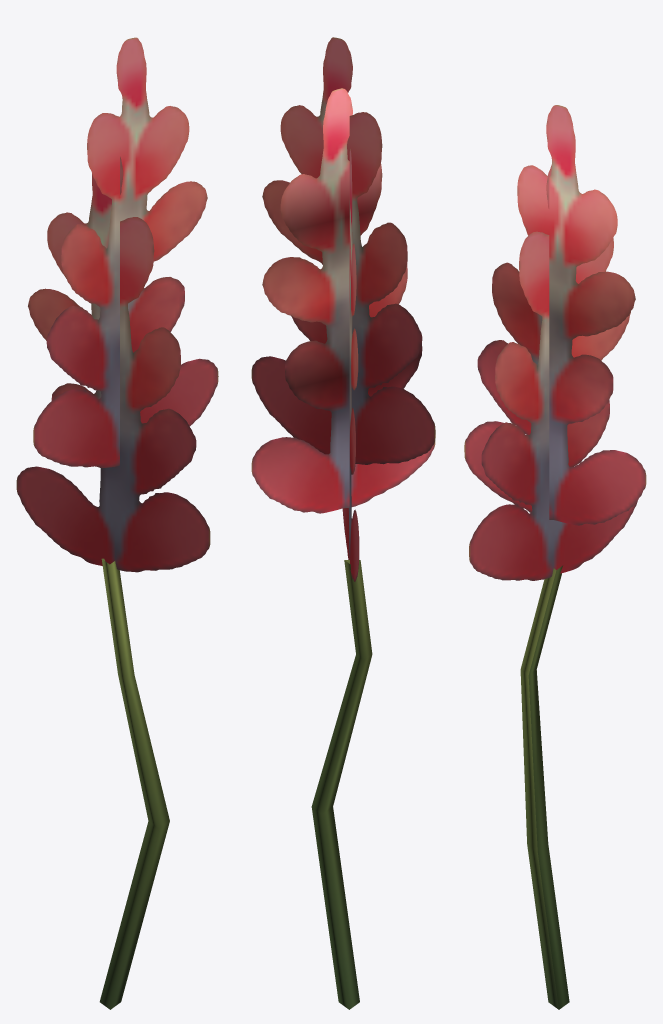
Rendered from Desert_flower_01.fbx.
3 renders of one model, left to right at view 1: azimuth 30°, elevation 25°; view 2: azimuth 150°, elevation 25°; view 3: azimuth 270°, elevation 25°, orthographic.
Parts seen in each view (by area): view 1: Desert_flower_01; view 2: Desert_flower_01; view 3: Desert_flower_01.
Part boxes in pixels (x1,y1,x2,y2): Desert_flower_01: (16, 37, 218, 1009); Desert_flower_01: (251, 37, 435, 1009); Desert_flower_01: (464, 105, 646, 1009).
Bounding box in the file's own units: 22.15 × 109 × 19.18.
